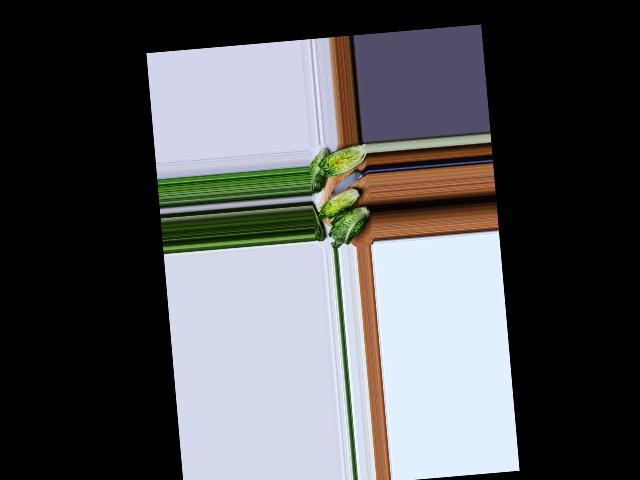lettuce: (309, 148, 331, 193)
